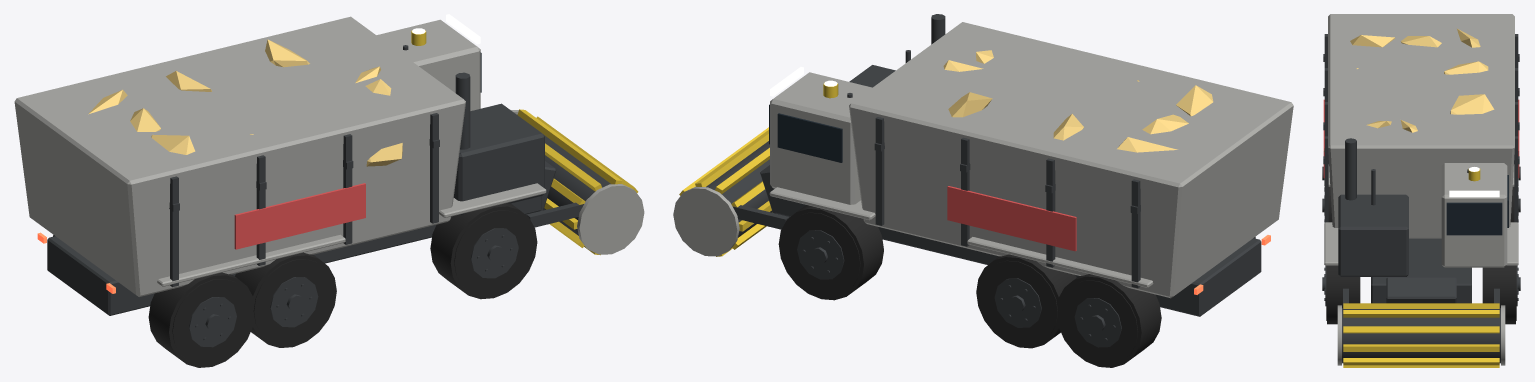
Rendered from harvester.glb.
The picture shows the model from 3 angles, left to right: view 1: azimuth 30°, elevation 25°; view 2: azimuth 150°, elevation 25°; view 3: azimuth 270°, elevation 25°; orthographic projection. The views are drawn at different scales.
Parts seen in each view (by area): view 1: Hull, Drum, Load; view 2: Hull, Drum, Load; view 3: Hull, Drum, Load.
Part boxes in pixels (x1,y1,x2,y2): Hull: (14,14,583,367); Drum: (511,109,644,255); Load: (88,39,402,166); Hull: (732,14,1293,367); Drum: (673,127,772,256); Load: (943,50,1213,152); Hull: (1322,14,1520,324); Drum: (1337,303,1505,367); Load: (1324,28,1494,151).
Bounding box in the file's own units: 9.67 × 3.85 × 3.94.
